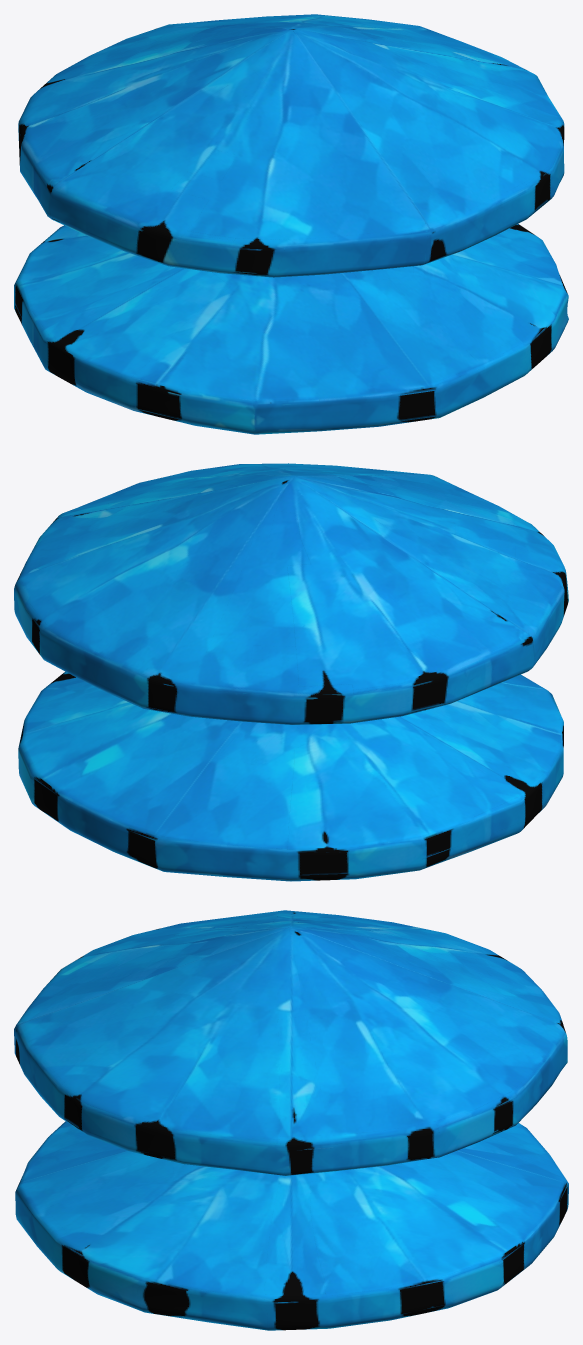
Rendered from bonus_hihat_LOW_5k.fbx.
3 renders of one model, top to bottom at view 1: azimuth 30°, elevation 25°; view 2: azimuth 150°, elevation 25°; view 3: azimuth 270°, elevation 25°, orthographic.
Visible parts, largest first — view 1: HIGH; view 2: HIGH; view 3: HIGH.
Part boxes in pixels (<box>): HIGH: <box>14,14,568,434</box>; HIGH: <box>14,463,568,881</box>; HIGH: <box>14,910,568,1330</box>.
Bounding box in the file's own units: 1.89 × 1.46 × 1.89.
